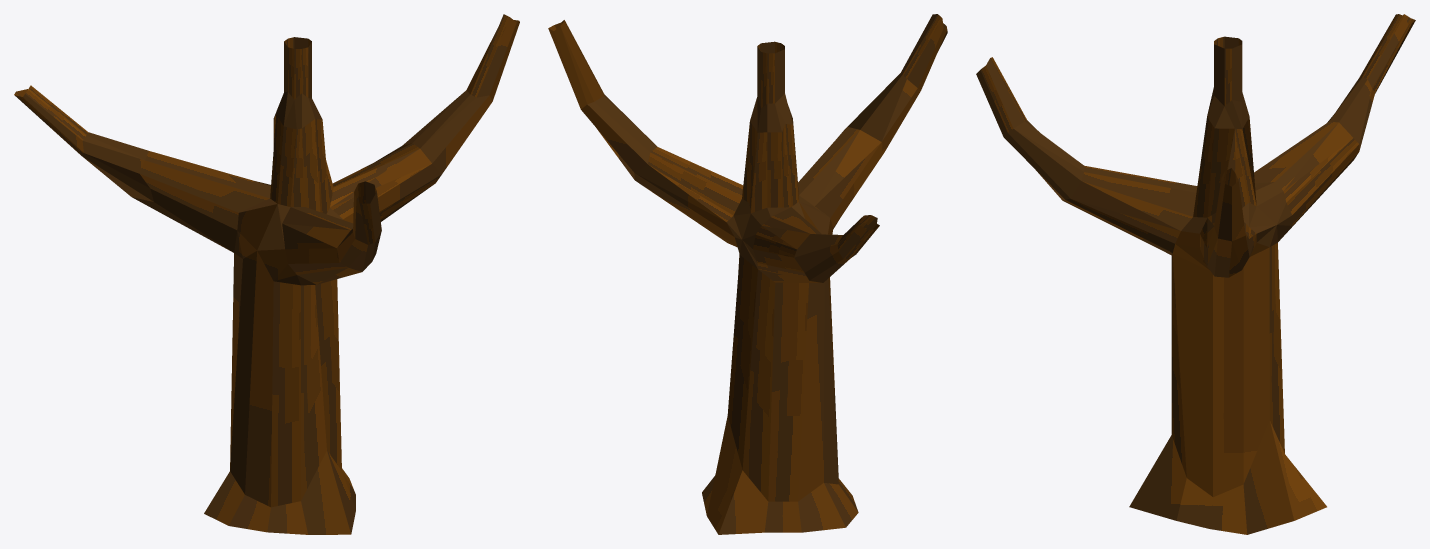
3 views of the same model, side by side, from view 1: azimuth 30°, elevation 25°; view 2: azimuth 150°, elevation 25°; view 3: azimuth 270°, elevation 25° (orthographic). The views are drawn at different scales.
Parts seen in each view (by area): view 1: cylinder; view 2: cylinder; view 3: cylinder.
Boxes of the visible parts, bbox=[...] form: cylinder: bbox=[14, 14, 519, 534]; cylinder: bbox=[548, 14, 947, 534]; cylinder: bbox=[976, 14, 1415, 534].
Size of the model in its own units: 0.5411 by 0.5625 by 0.4849.
1 material, 1 textured.
